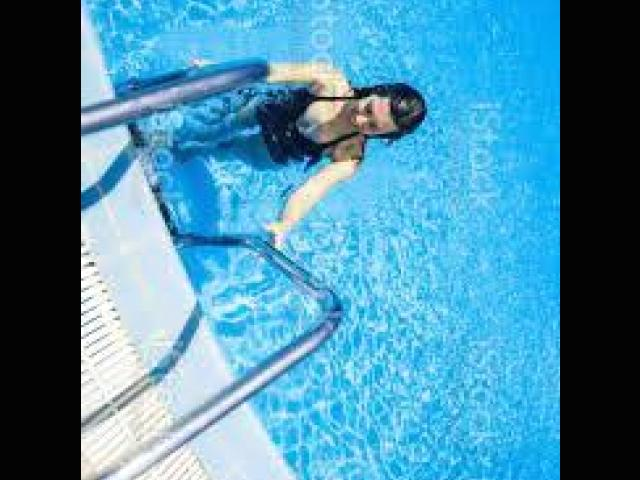swimming: (176, 64, 418, 240)
